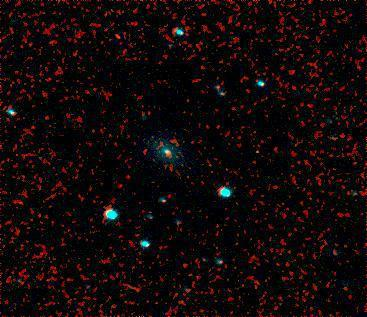star: (103, 22, 133, 52)
